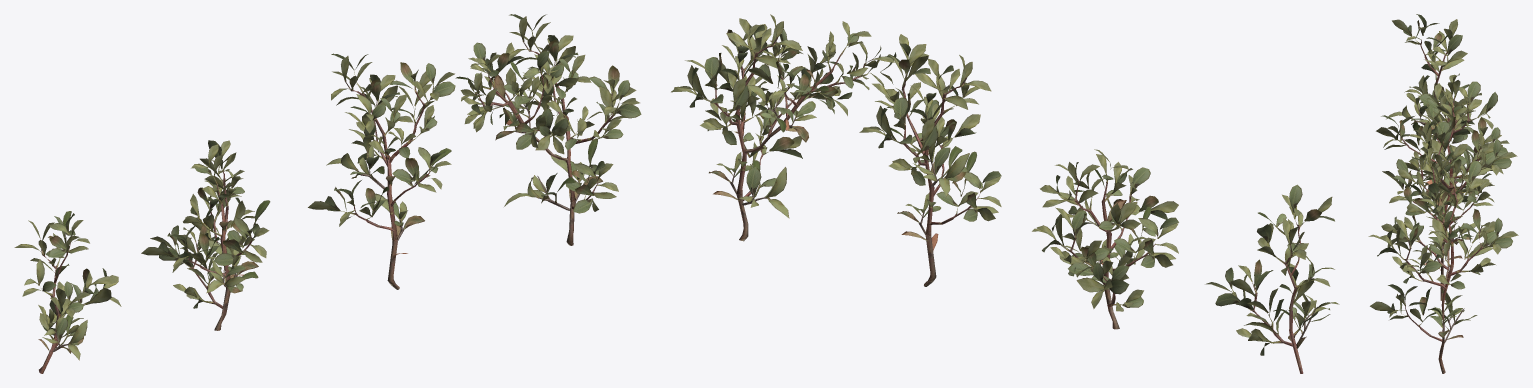
File: shrub_04.glb
The picture shows the model from 3 angles, left to right: view 1: azimuth 30°, elevation 25°; view 2: azimuth 150°, elevation 25°; view 3: azimuth 270°, elevation 25°; orthographic projection. The views are drawn at different scales.
Visible parts, largest first — view 1: shrub_04; view 2: shrub_04; view 3: shrub_04.
Boxes of the visible parts, x1,y1,x2,y2 form: shrub_04: [14, 14, 641, 373]; shrub_04: [671, 14, 1339, 373]; shrub_04: [1368, 14, 1518, 373].
Bounding box in the file's own units: 0.5837 × 0.2192 × 0.1461.
Materials: 1 (1 with a texture image).
